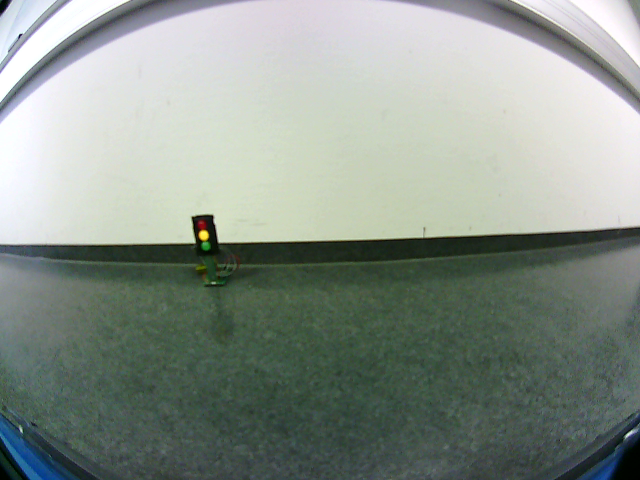yellow trafficlight: (193, 216, 216, 256)
